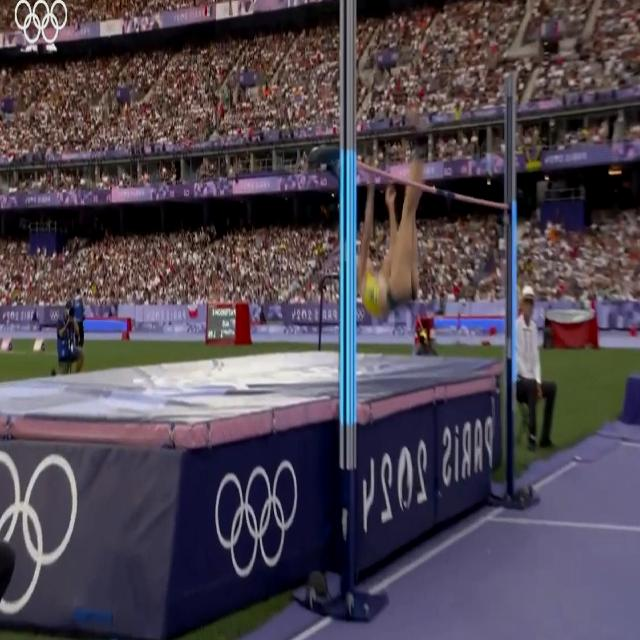land: (354, 123, 422, 310)
